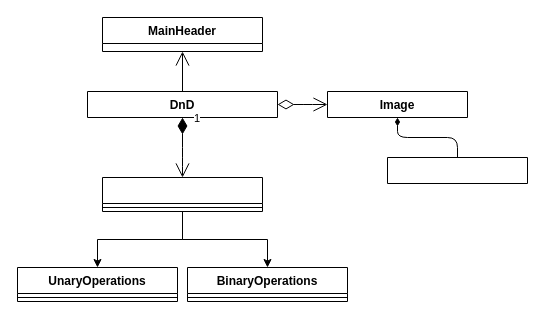
Some shapes in this 545 by 319 pixel diagram are drawn without their labels. Here are the shapes that lost their labels. From the top down, the centre of each, then its label:
At point 457,170: "Axis".
At point 182,194: "OperationManager".
